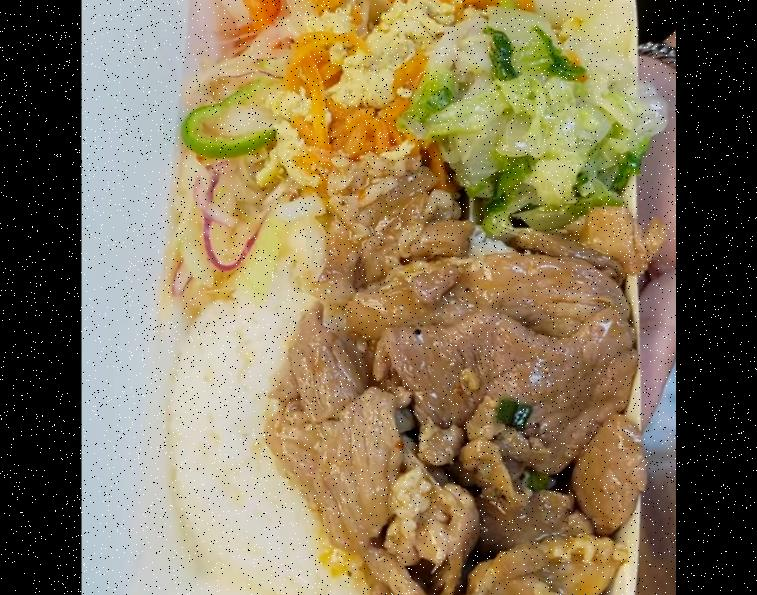box: (113, 0, 658, 595)
pork with scrambled eggs: (277, 202, 639, 595)
side dish: (417, 14, 624, 220), (164, 0, 295, 282), (296, 0, 440, 190)
white rice: (170, 255, 489, 594)
